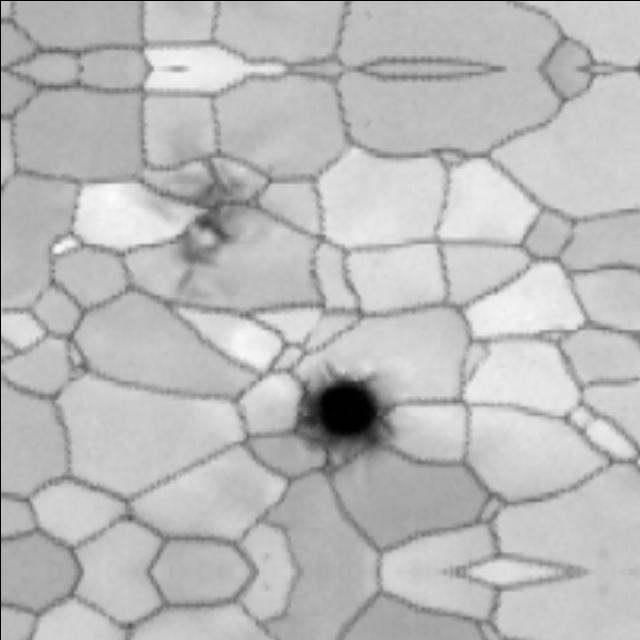good_void: (131, 157, 259, 297), (285, 361, 395, 459)
